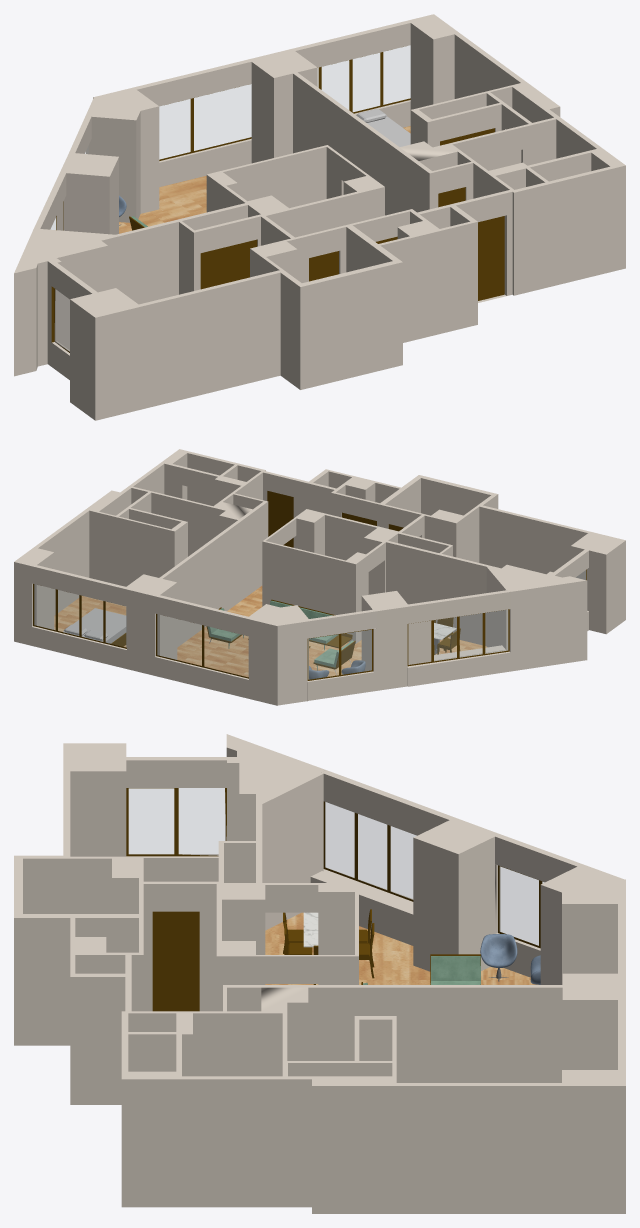
Rendered from simple3Dplan.glb.
The picture shows the model from 3 angles, top to bottom: view 1: azimuth 30°, elevation 25°; view 2: azimuth 150°, elevation 25°; view 3: azimuth 270°, elevation 25°; orthographic projection. The views are drawn at different scales.
Visible parts, largest first — view 1: 3d-model; view 2: 3d-model; view 3: 3d-model.
Boxes of the visible parts, left/top/right/bottom form: 3d-model: left=14, top=14, right=625, bottom=420; 3d-model: left=14, top=449, right=625, bottom=705; 3d-model: left=14, top=734, right=625, bottom=1213.
Size of the model in its own units: 39.56 by 6.78 by 29.07.
10 materials, 5 textured.
